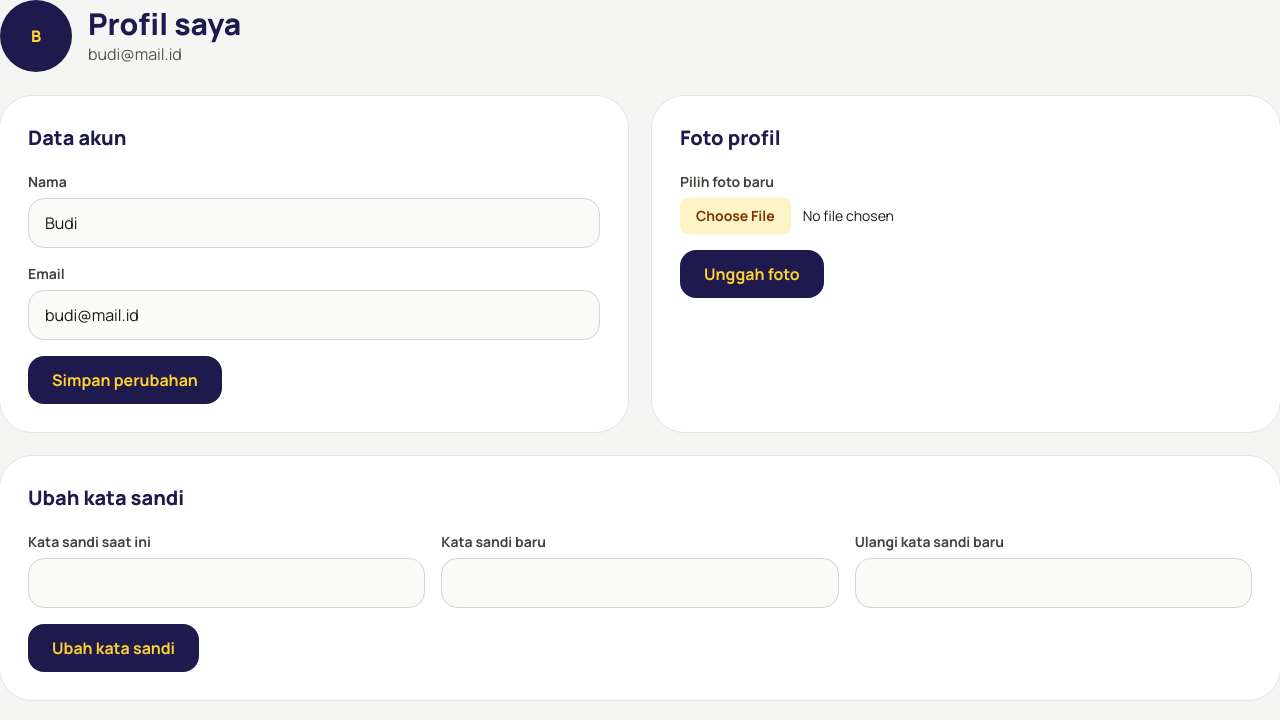
Test case: ProfilePage: kata sandi › menolak konfirmasi yang berbeda
Expected: the field labelled "Nama" holds "Budi", [28, 198, 600, 248]
In the password field labelled "Kata sandi saat ini": (227, 583) [28, 558, 425, 608], type "lama123"
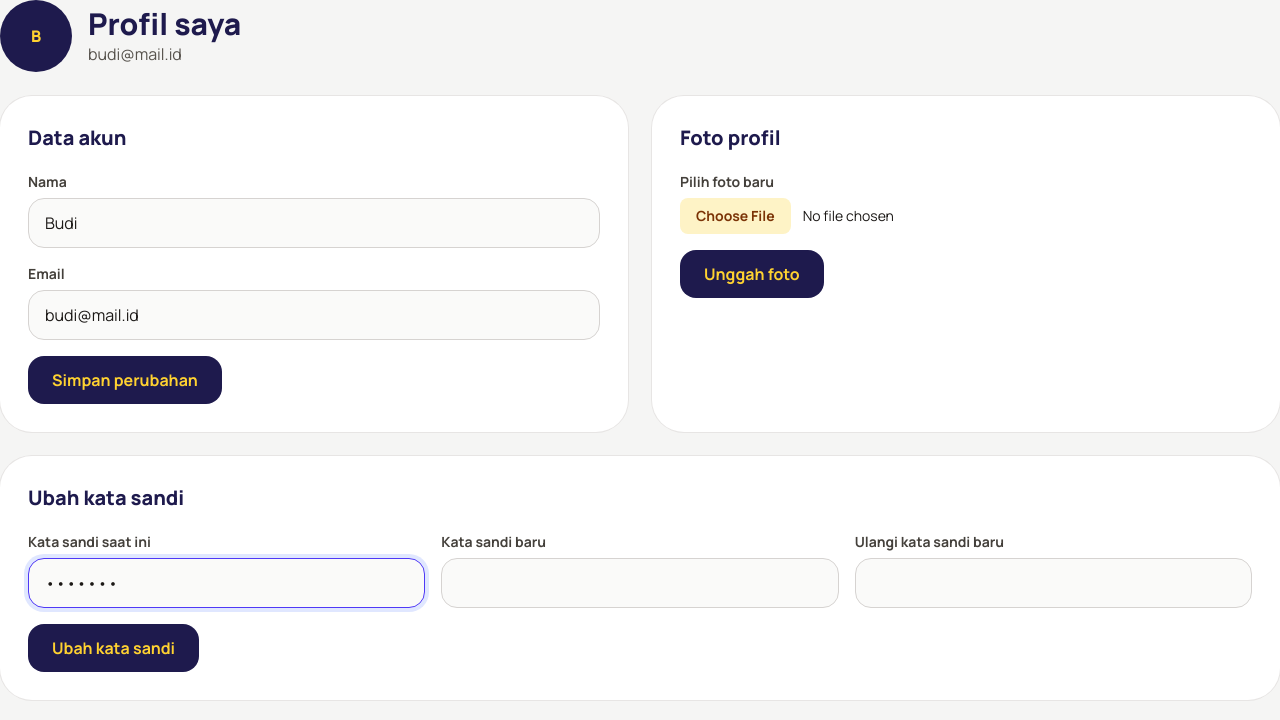
In the password field labelled "Kata sandi baru": (640, 583) [441, 558, 839, 608], type "baru123"
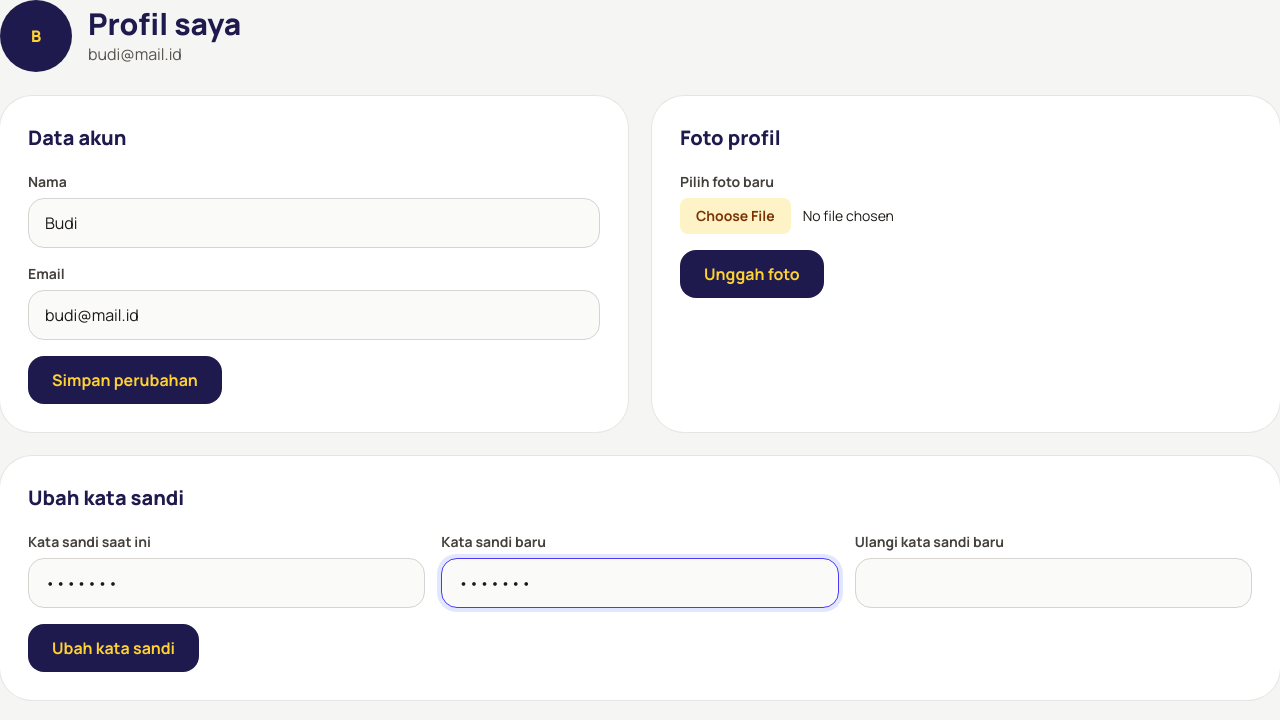
In the password field labelled "Ulangi kata sandi baru": (1053, 583) [855, 558, 1252, 608], type "beda123"
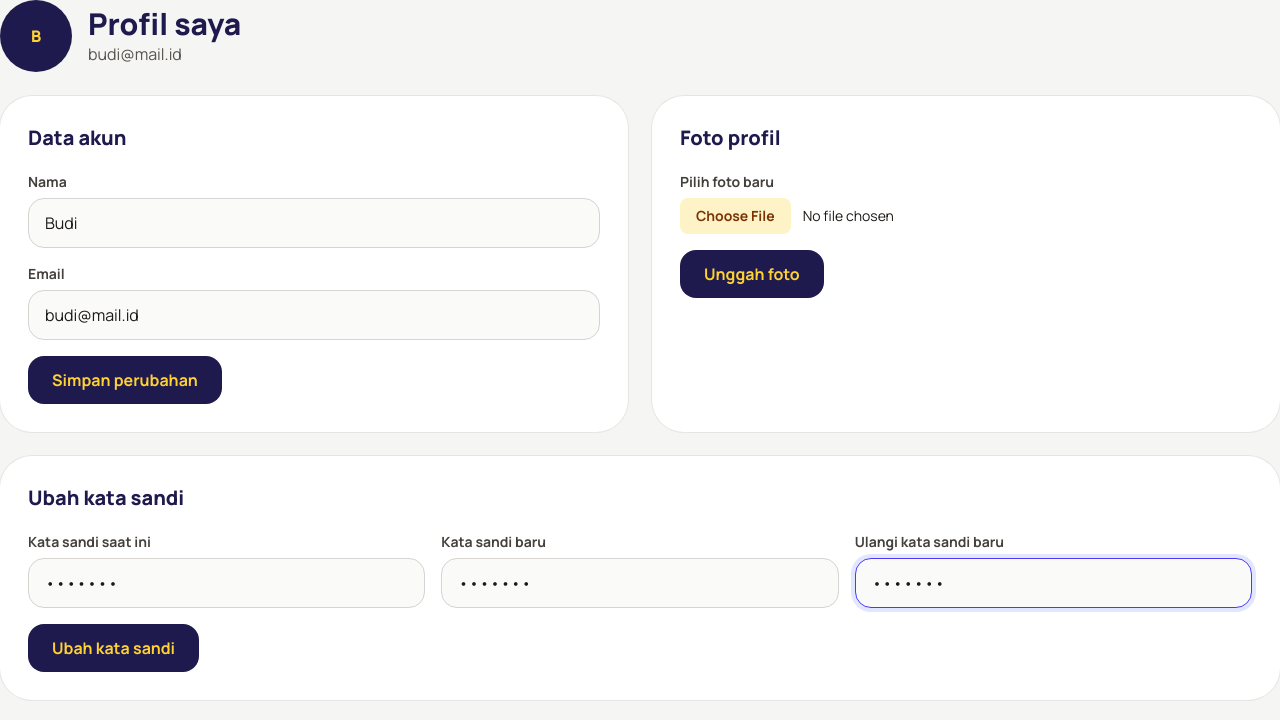
Click the button "Ubah kata sandi": (114, 648) [28, 624, 199, 672]
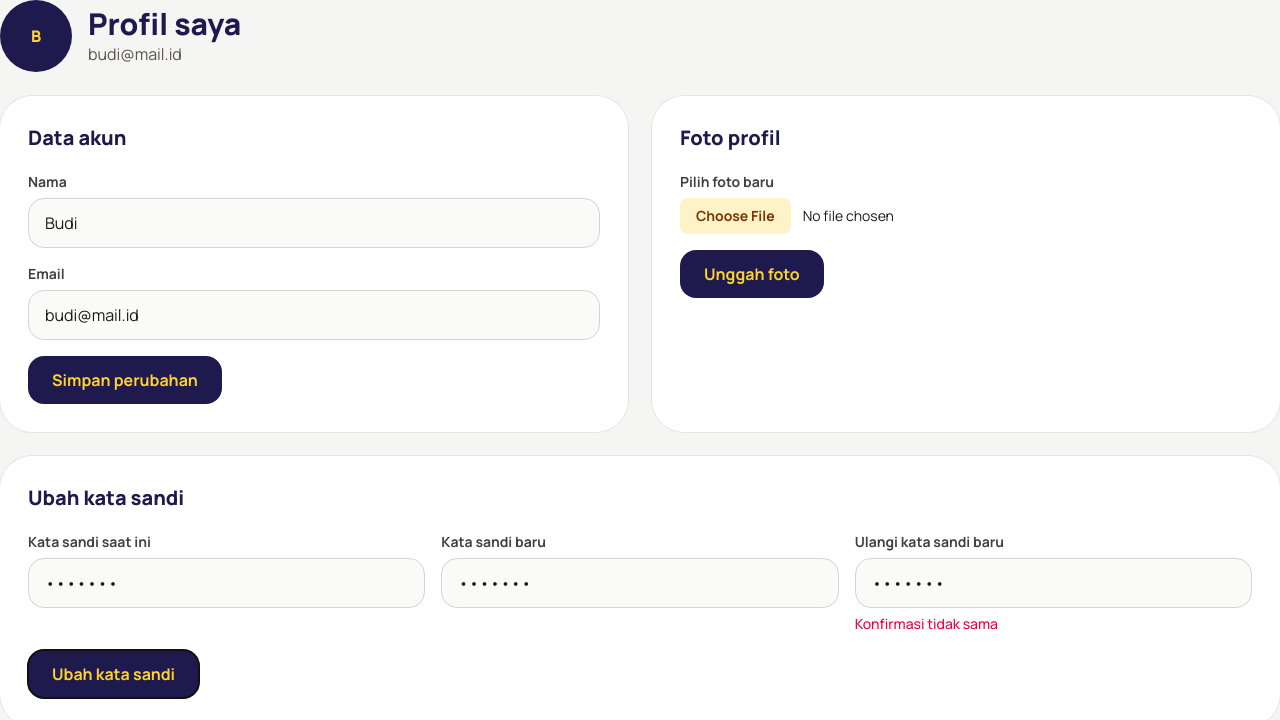
Expected: the text "Konfirmasi tidak sama" is shown, [855, 614, 998, 633]
